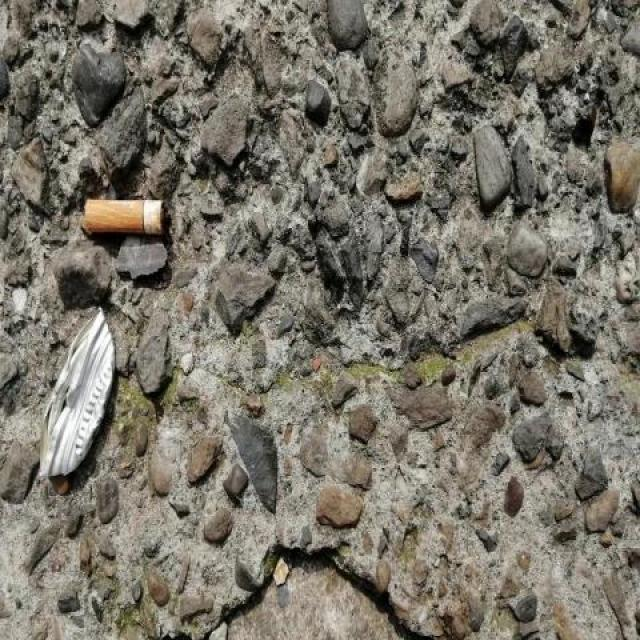non-organic waste: (79, 191, 170, 241)
